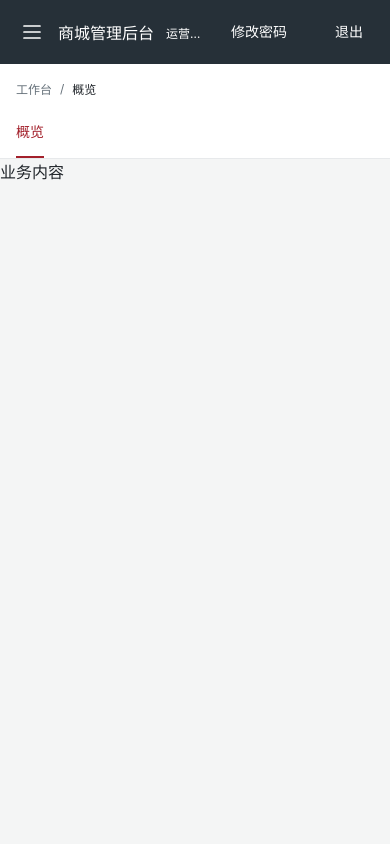
Scenario: pilot shell and login › provides a keyboard reachable collapsed navigation control
This screenshot has width=390, height=844.
What coordinates should you click on to do the following:
click the button named "打开导航菜单"
I would click on:
 (32, 32)
Its box is [12,12,52,52].
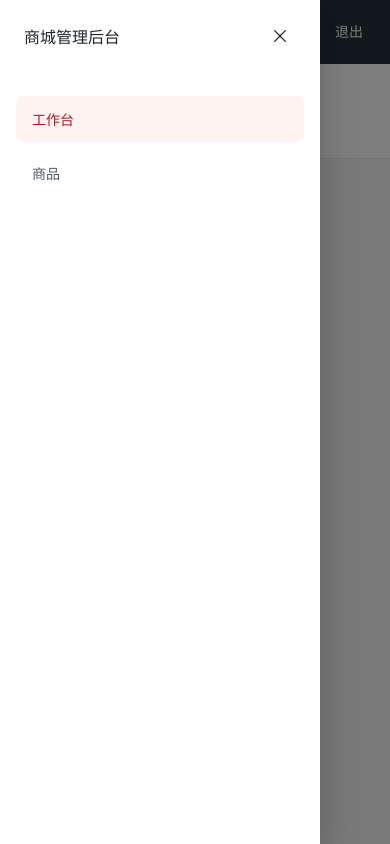
Expected: the button named "打开导航菜单" is expanded, [12,12,52,52]
